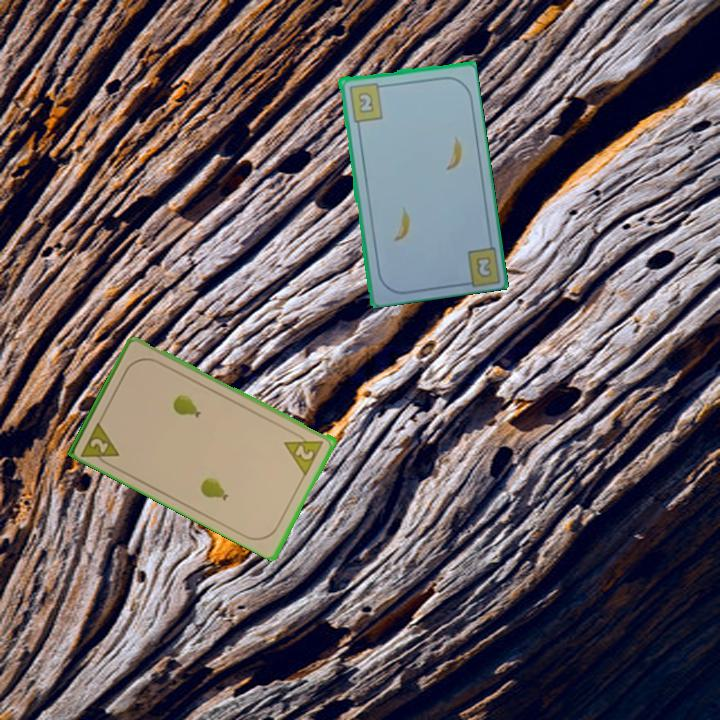2b: (345, 79, 387, 124), (472, 252, 495, 281)
2p: (281, 428, 327, 477), (87, 434, 112, 456)
